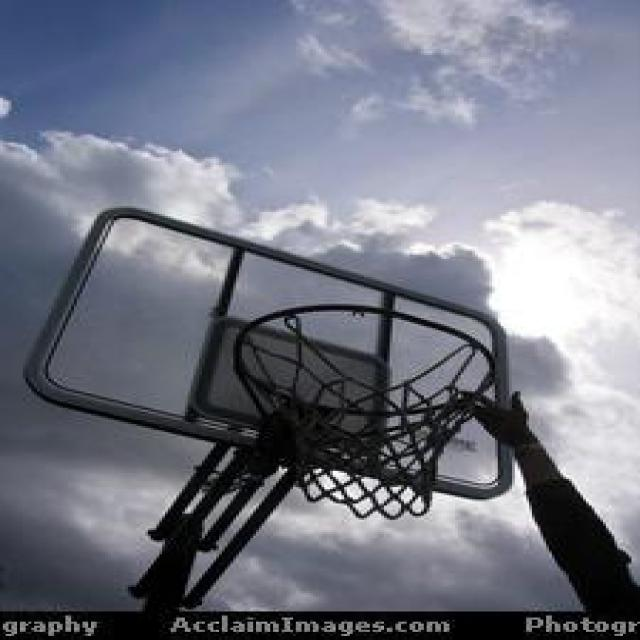hoop: (216, 304, 512, 532)
